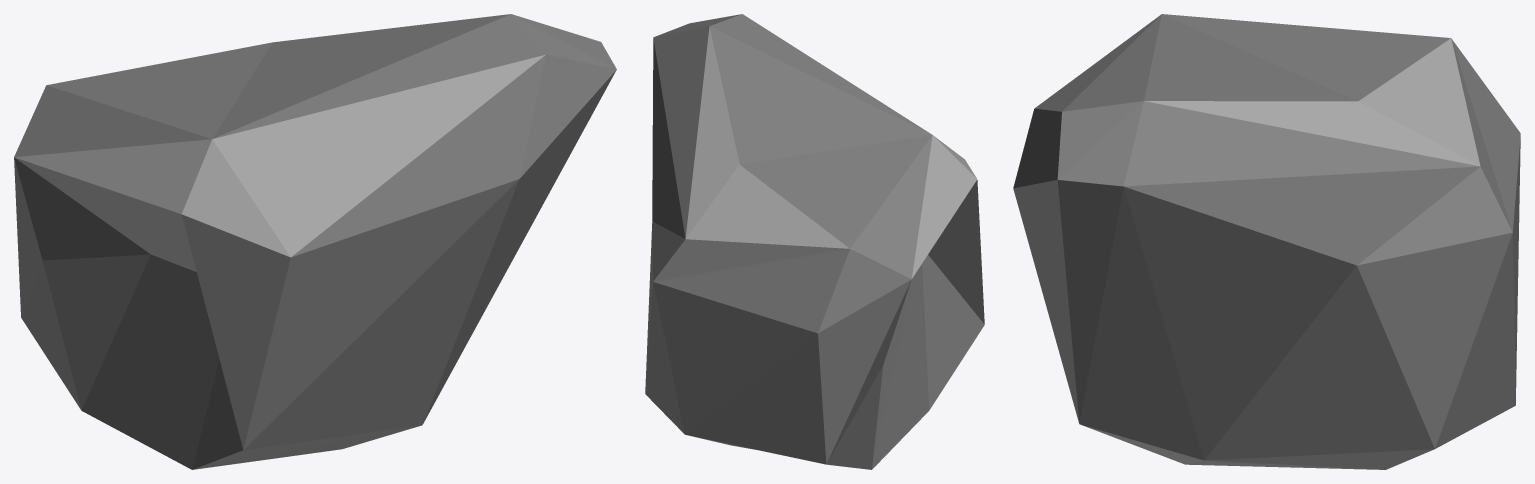
The model's file is rock_12.fbx.
3 renders of one model, left to right at view 1: azimuth 30°, elevation 25°; view 2: azimuth 150°, elevation 25°; view 3: azimuth 270°, elevation 25°, orthographic. The views are drawn at different scales.
Visible parts, largest first — view 1: rock_12; view 2: rock_12; view 3: rock_12.
Part boxes in pixels (x1,y1,x2,y2): rock_12: (14, 14, 616, 469); rock_12: (645, 14, 984, 469); rock_12: (1013, 14, 1520, 469).
Bounding box in the file's own units: 48.41 × 41.83 × 43.53.
